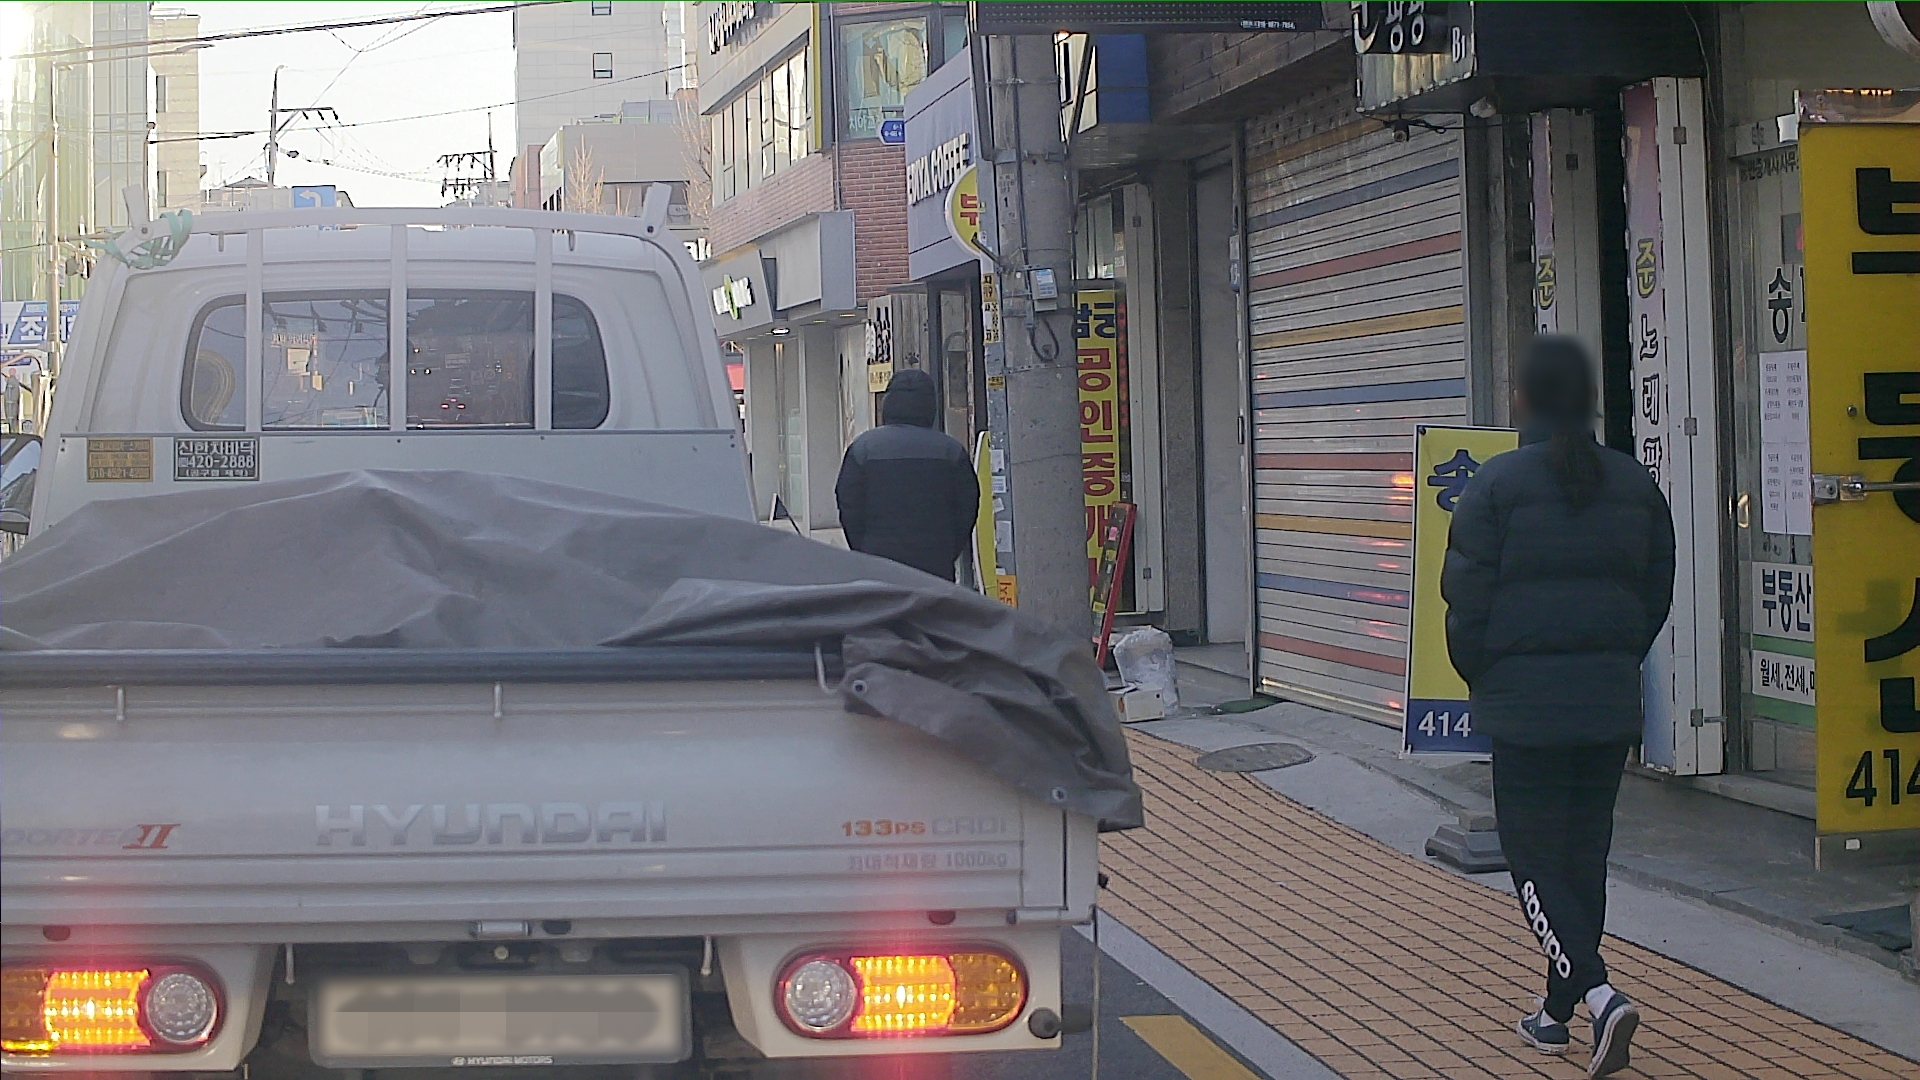trafficSignRTG: (291, 187, 339, 220)
